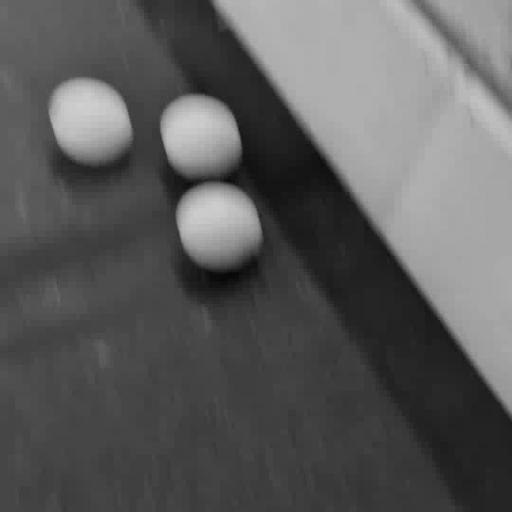fuel: (176, 182, 262, 272), (49, 78, 133, 167), (160, 94, 242, 180)
